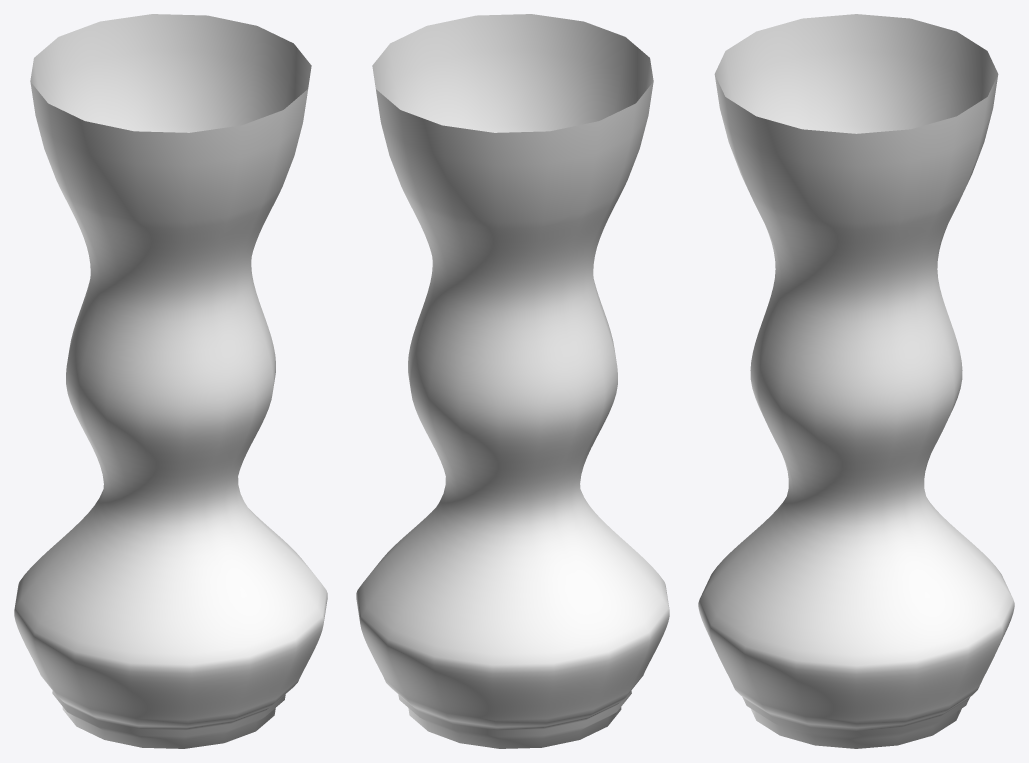
The model's file is jellyfishunder.fbx.
3 renders of one model, left to right at view 1: azimuth 30°, elevation 25°; view 2: azimuth 150°, elevation 25°; view 3: azimuth 270°, elevation 25°, orthographic.
Parts seen in each view (by area): view 1: jellyfishUnder; view 2: jellyfishUnder; view 3: jellyfishUnder.
Part boxes in pixels (x1,y1,x2,y2): jellyfishUnder: [14, 14, 327, 748]; jellyfishUnder: [356, 14, 669, 748]; jellyfishUnder: [698, 14, 1014, 748].
Bounding box in the file's own units: 1.83 × 4.09 × 1.83.
Materials: 1 (1 with a texture image).
